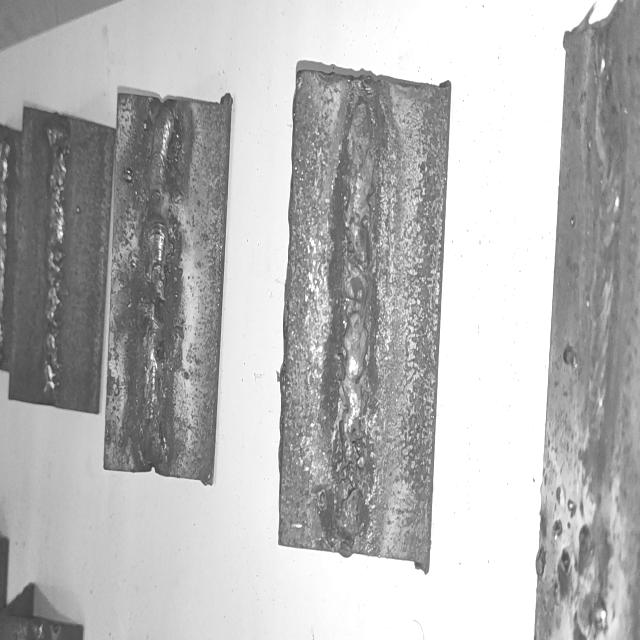Bad Weld: (334, 84, 380, 541), (143, 102, 180, 466)
Defect: (329, 408, 379, 544), (142, 317, 171, 457), (141, 154, 179, 251)
Good Weld: (43, 112, 68, 402)
